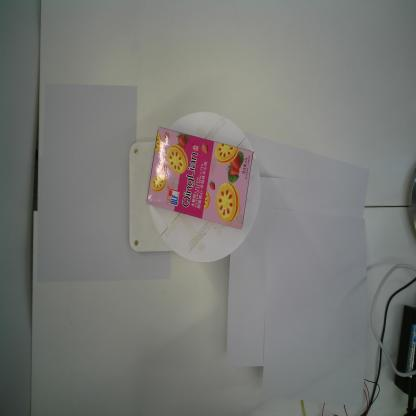Dessert: (145, 125, 255, 232)
